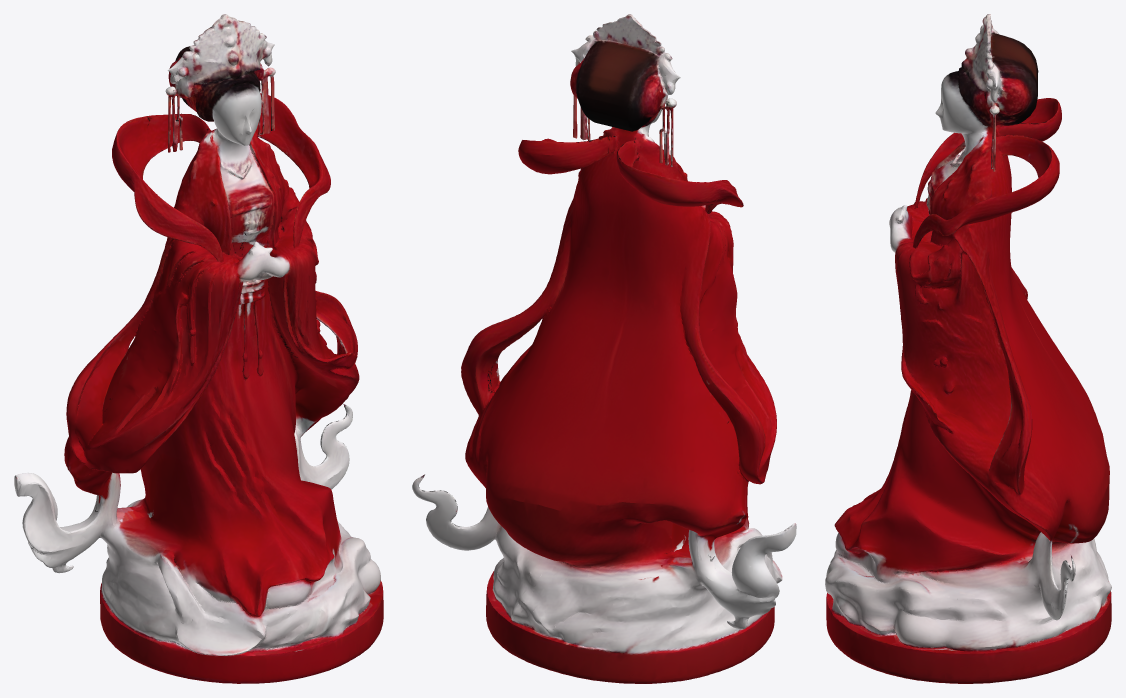
The model's file is queen_white.glb.
3 renders of one model, left to right at view 1: azimuth 30°, elevation 25°; view 2: azimuth 150°, elevation 25°; view 3: azimuth 270°, elevation 25°, orthographic. The views are drawn at different scales.
Parts seen in each view (by area): view 1: model; view 2: model; view 3: model.
Boxes of the visible parts, box(x1,y1,x2,y2) form: model: box(14, 14, 383, 683); model: box(412, 14, 796, 683); model: box(825, 14, 1111, 683).
Bounding box in the file's own units: 1.16 × 1.9 × 0.8076.
1 material, 1 textured.
